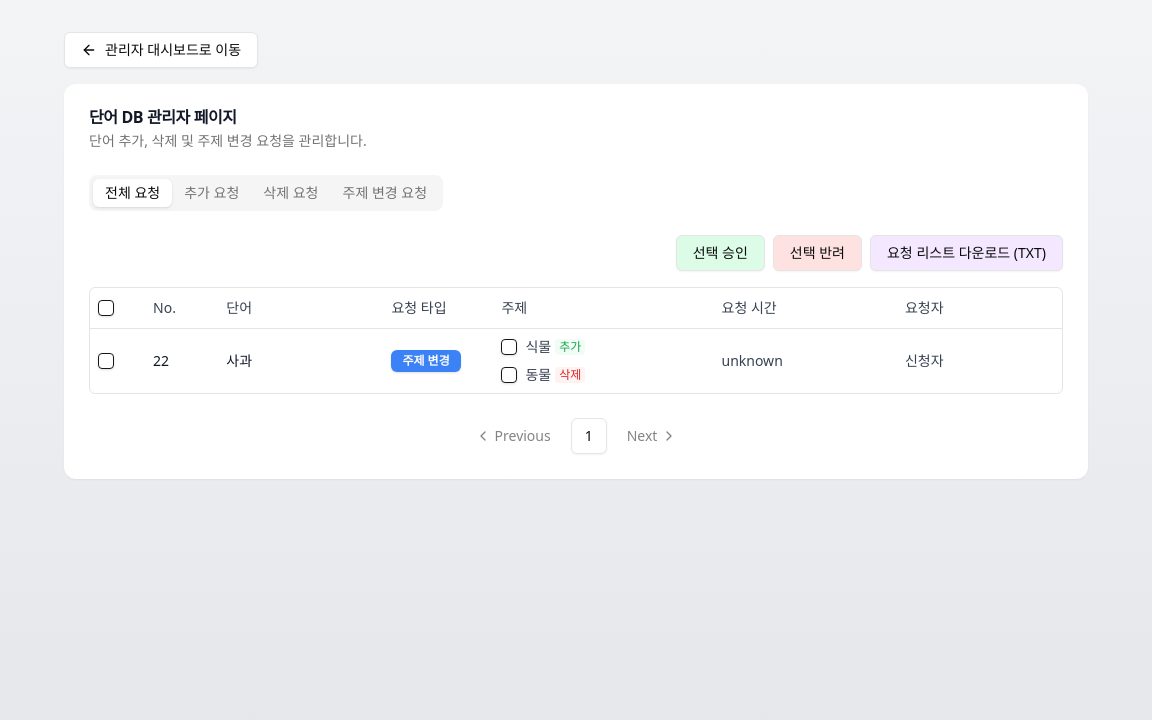
Test: AdminRequestHome › 승인은 선택된 주제가 없는 주제 변경을 빈 changes로 전달하고 validation 실패 시 선택을 유지한다
Click the checkbox named "사과 선택": (106, 360) [98,352,114,368]
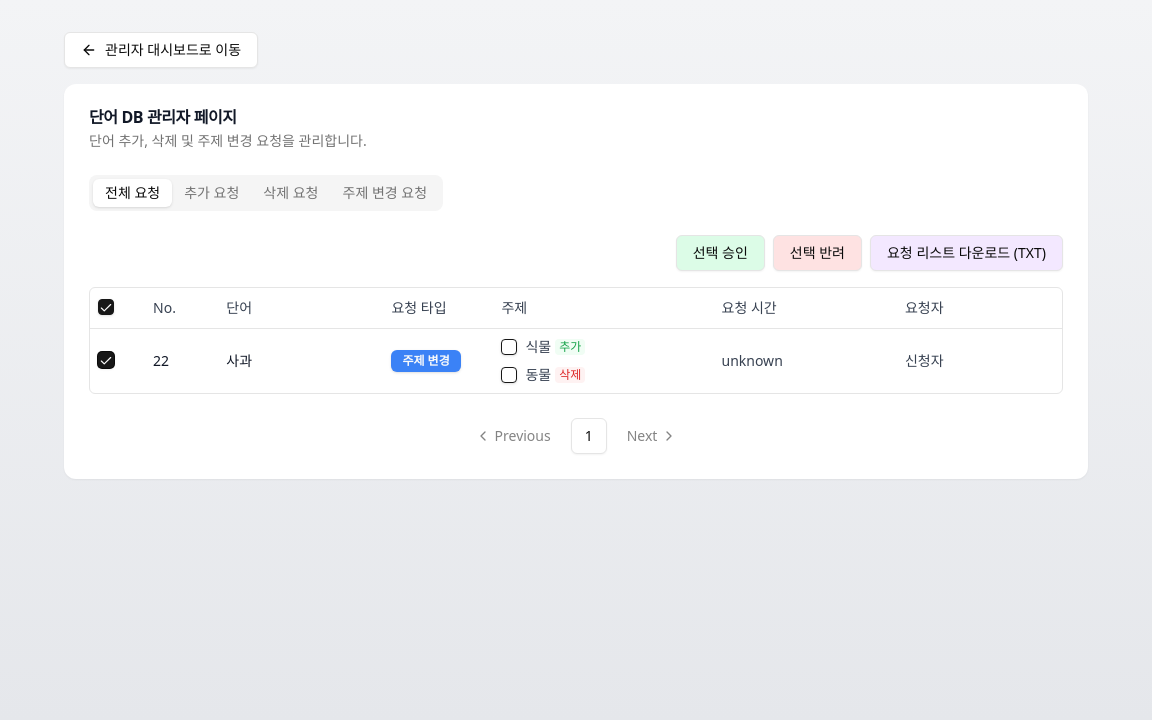
Click the button "선택 승인": (720, 253) [676,235,765,271]
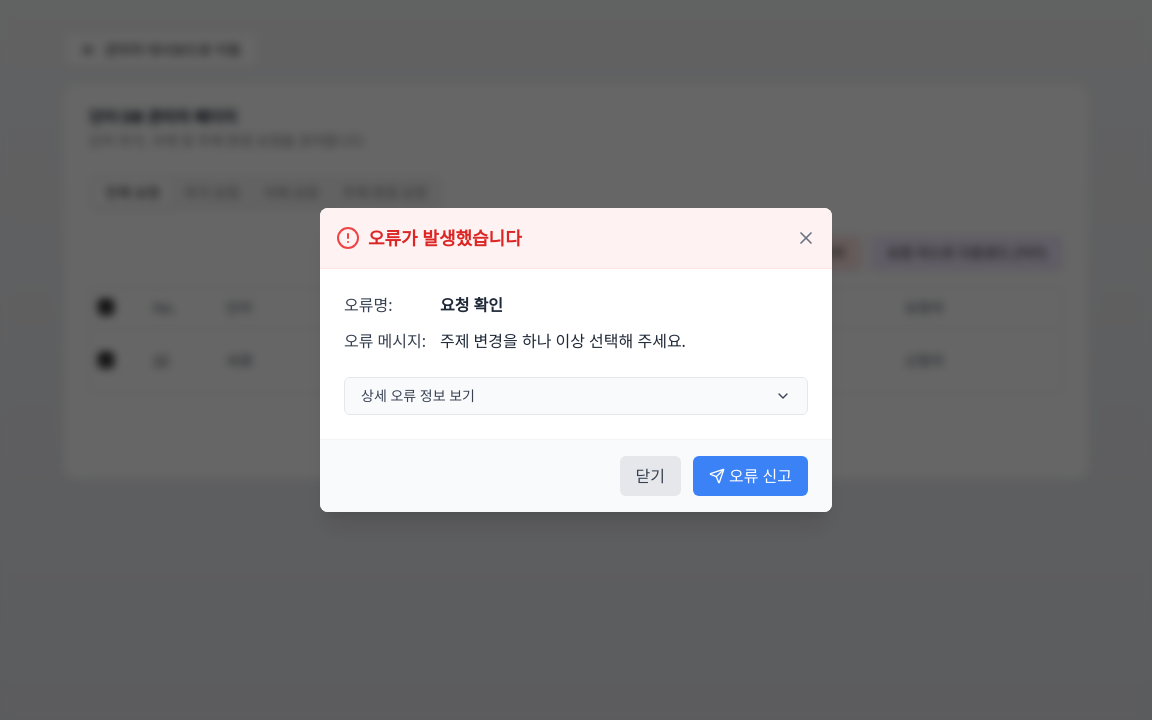
Check: the checkbox named "사과 선택" is checked, box [98,352,114,368]
Check: the text "주제 변경을 하나 이상 선택해 주세요." is shown, box [440,329,686,353]
